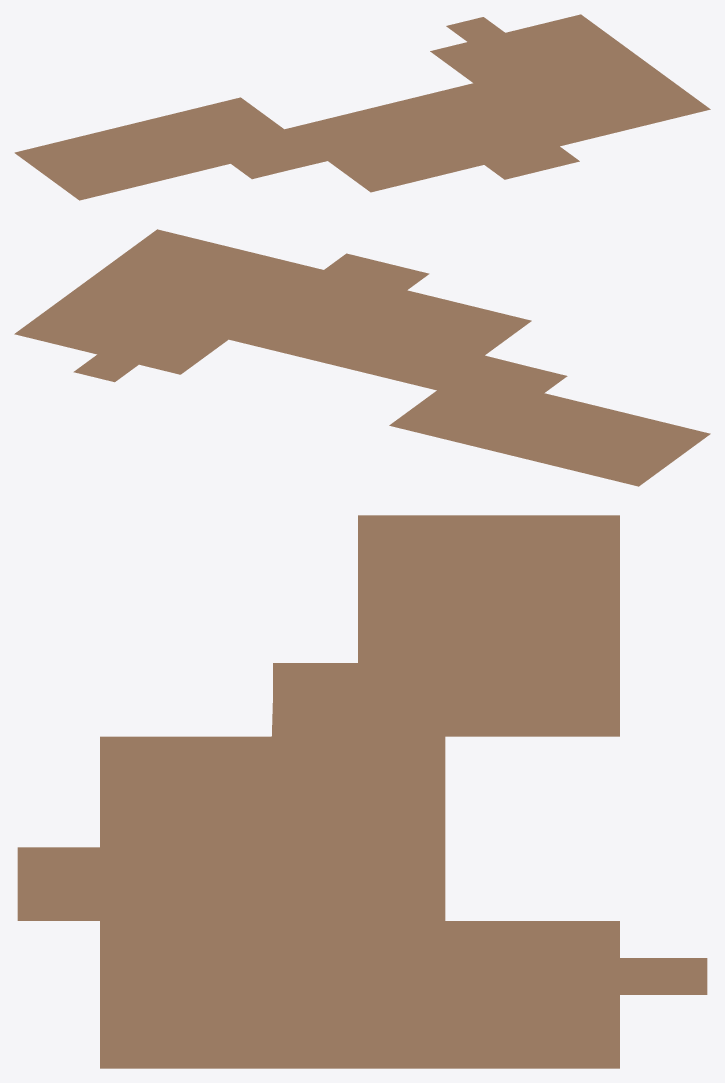
The model's file is N01_Piso_SalaComedorCocina_004_new.fbx.
3 renders of one model, top to bottom at view 1: azimuth 30°, elevation 25°; view 2: azimuth 150°, elevation 25°; view 3: azimuth 270°, elevation 25°, orthographic. The views are drawn at different scales.
Parts seen in each view (by area): view 1: N01_Piso_SalaComedorCocina_004; view 2: N01_Piso_SalaComedorCocina_004; view 3: N01_Piso_SalaComedorCocina_004.
Boxes of the visible parts, x1=… form: N01_Piso_SalaComedorCocina_004: x1=14, y1=14, x2=710, y2=200; N01_Piso_SalaComedorCocina_004: x1=14, y1=229, x2=710, y2=486; N01_Piso_SalaComedorCocina_004: x1=17, y1=515, x2=707, y2=1068.
Bounding box in the file's own units: 1500 × 0.000129 × 790.
2 materials, 2 textured.
